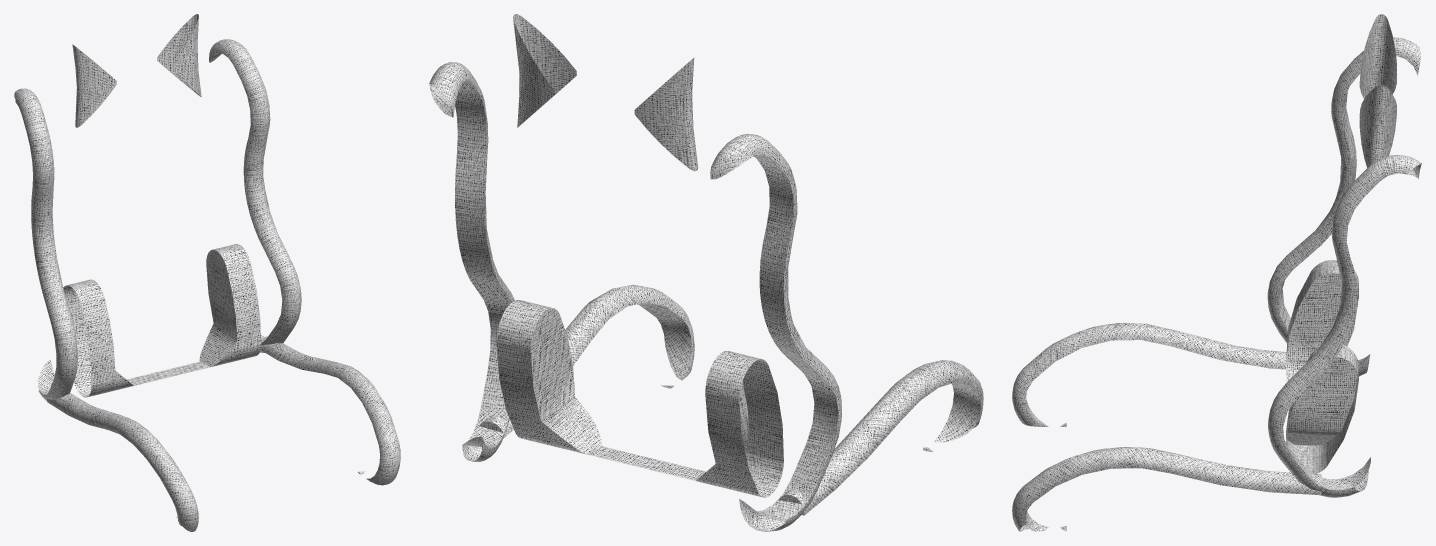
Rendered from Blks_-_Plastic_-_White.obj.
The picture shows the model from 3 angles, left to right: view 1: azimuth 30°, elevation 25°; view 2: azimuth 150°, elevation 25°; view 3: azimuth 270°, elevation 25°; orthographic projection. The views are drawn at different scales.
Size of the model in its own units: 0.51 by 0.7346 by 0.6377.
1 material, 1 textured.
